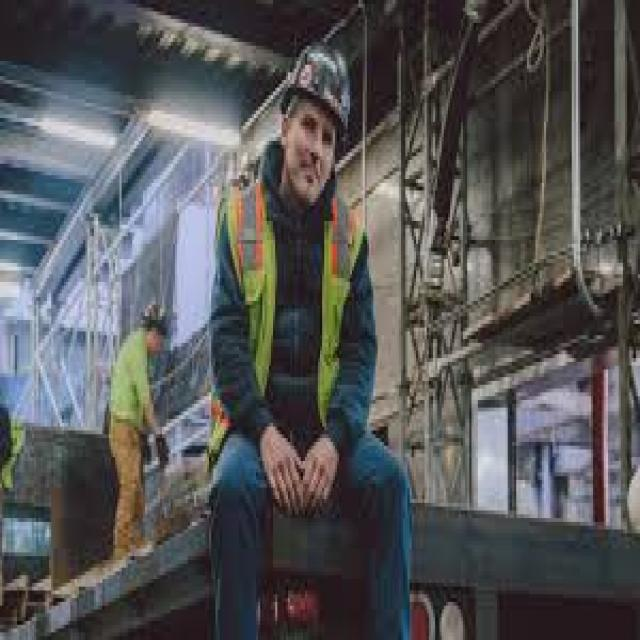Reflective-Jacket: (194, 175, 391, 499)
Safety-Helmet: (260, 34, 363, 145)
